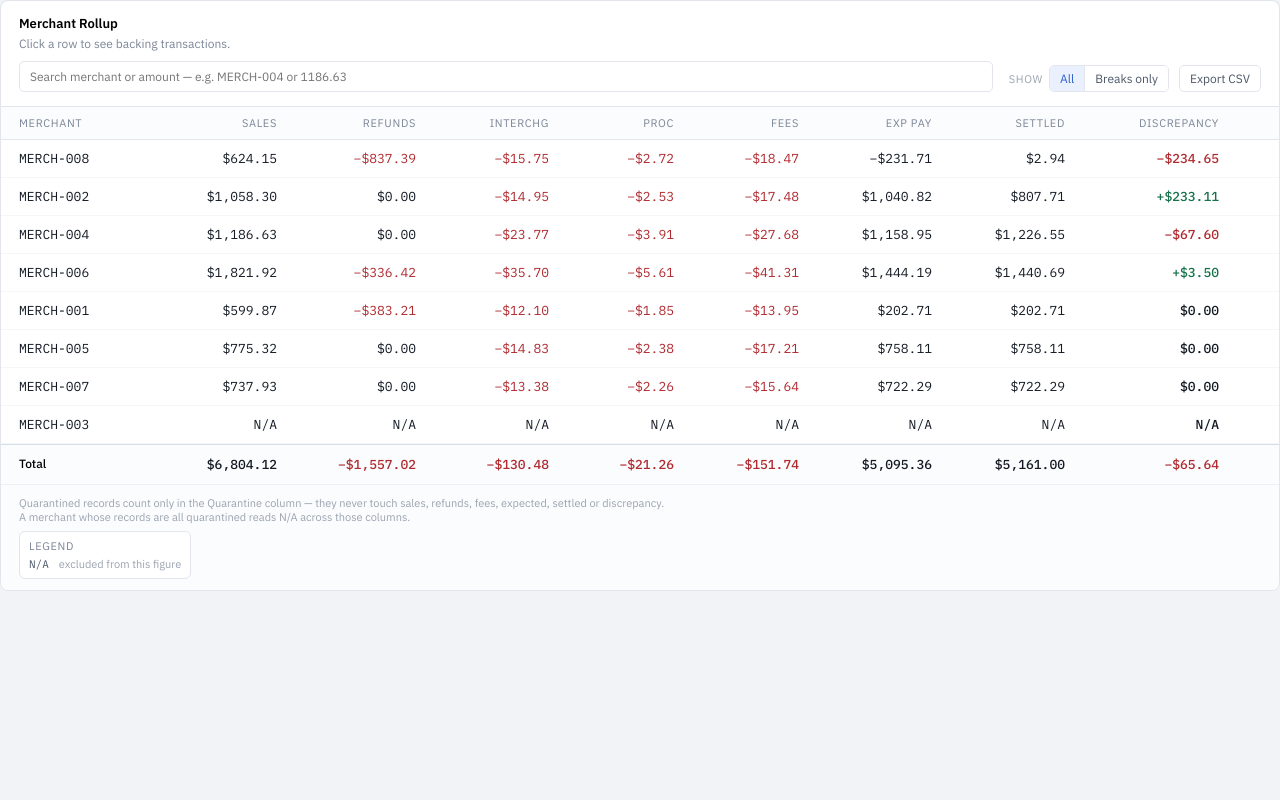
Scenario: MerchantTable › breaks-only filter › drops every merchant without a break and re-totals over what is left
Click the button "Breaks only": [1126, 78] box [1084,66,1168,91]
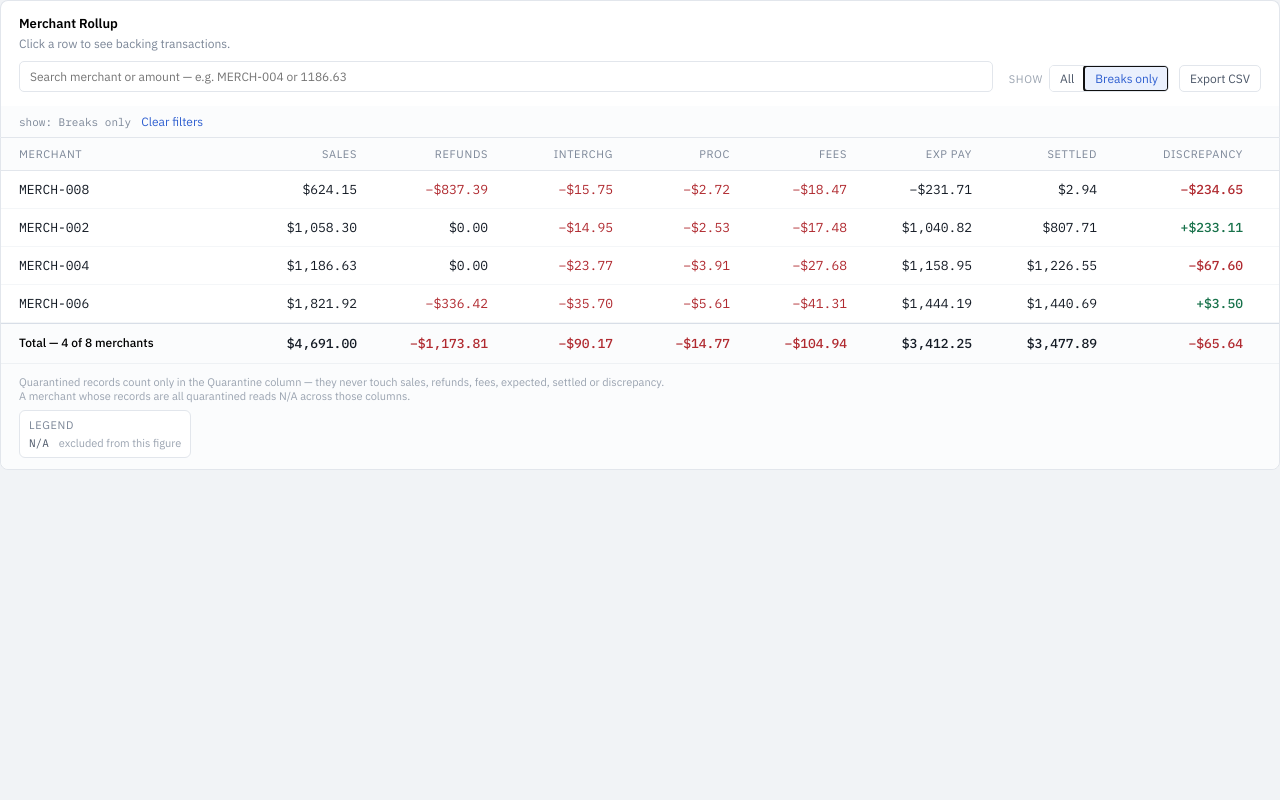
Now the cell "Total — 4 of 8 merchants" is shown, box [19,335,154,350]
Now the text "show: Breaks only" is shown, box [19,114,131,128]
